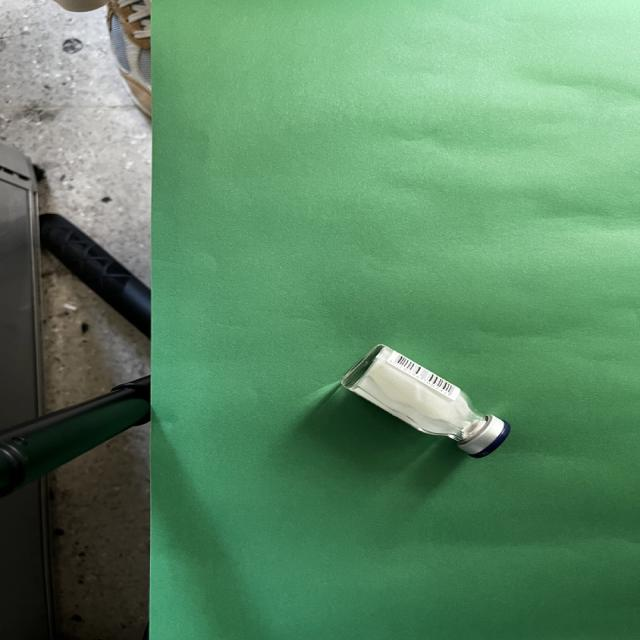Vials: (341, 344, 509, 456)
